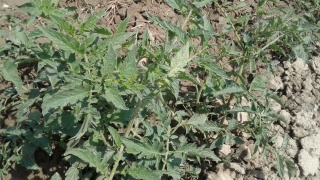tomato plant: (3, 5, 187, 176), (194, 2, 318, 67), (194, 74, 271, 156)
